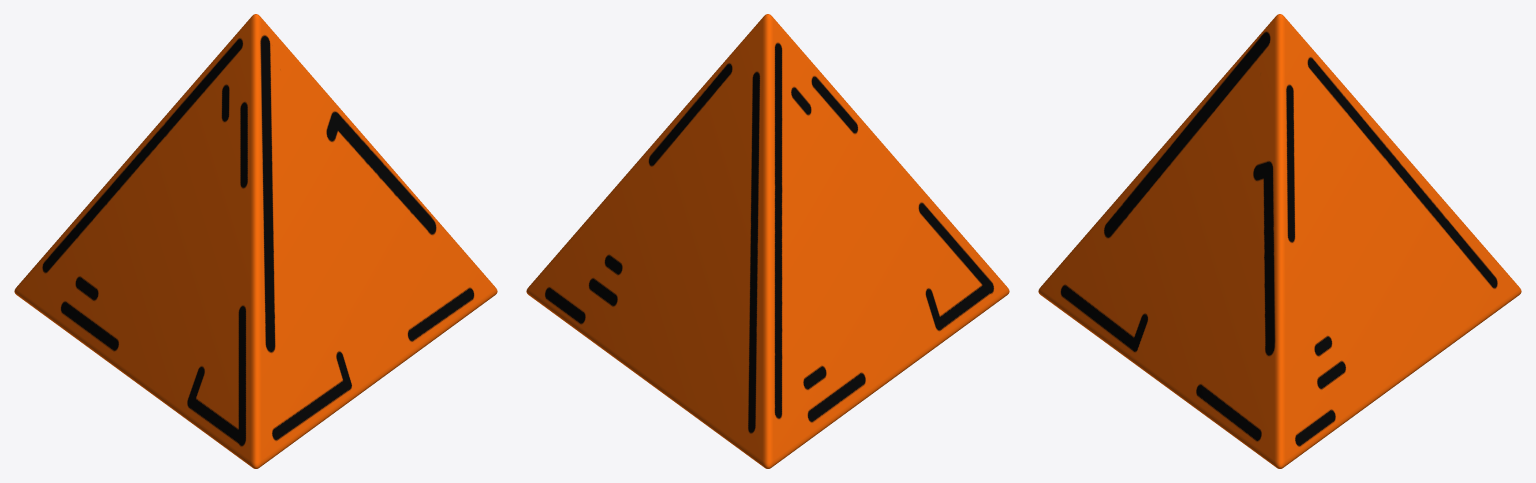
The picture shows the model from 3 angles, left to right: view 1: azimuth 30°, elevation 25°; view 2: azimuth 150°, elevation 25°; view 3: azimuth 270°, elevation 25°; orthographic projection.
Visible parts, largest first — view 1: Cylinder002; view 2: Cylinder002; view 3: Cylinder002.
Part boxes in pixels (x1=…): Cylinder002: x1=14, y1=14, x2=497, y2=468; Cylinder002: x1=526, y1=14, x2=1009, y2=468; Cylinder002: x1=1038, y1=14, x2=1521, y2=468.
Size of the model in its own units: 10.94 by 9.75 by 12.59.
Materials: 1 (1 with a texture image).
